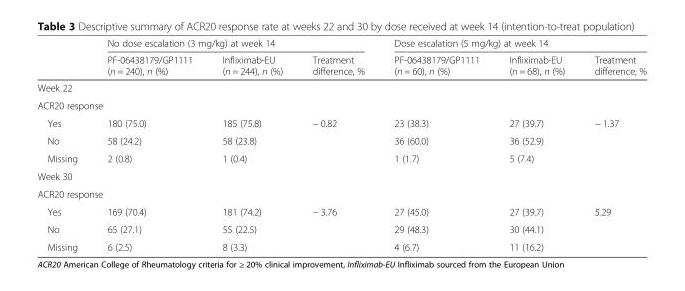table: (36, 37, 645, 252)
table column: (91, 37, 206, 252), (378, 37, 493, 252), (206, 37, 296, 252), (493, 37, 579, 252), (296, 37, 378, 252), (579, 37, 645, 252), (36, 37, 91, 252)
table column header: (36, 37, 645, 79)
table projected row header: (36, 184, 645, 202), (36, 79, 645, 96), (36, 96, 645, 113), (36, 167, 645, 184)
table row: (36, 51, 645, 79), (36, 113, 645, 131), (36, 131, 645, 149), (36, 149, 645, 167), (36, 184, 645, 202), (36, 202, 645, 220), (36, 79, 645, 96), (36, 96, 645, 113), (36, 167, 645, 184), (36, 220, 645, 237), (36, 237, 645, 252), (36, 37, 645, 51)
table spanning cell: (91, 37, 378, 51), (378, 37, 645, 51)
